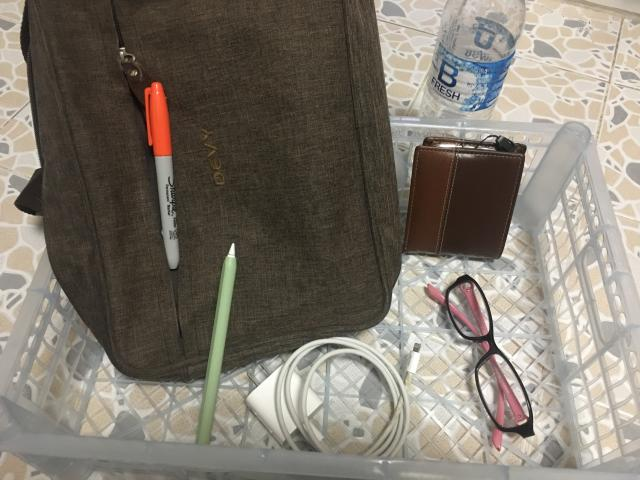Glasses: (445, 275, 534, 448)
Pen: (144, 82, 179, 269)
Wallet: (404, 138, 526, 259)
bottle: (421, 0, 525, 119)
wire: (246, 338, 420, 458)
